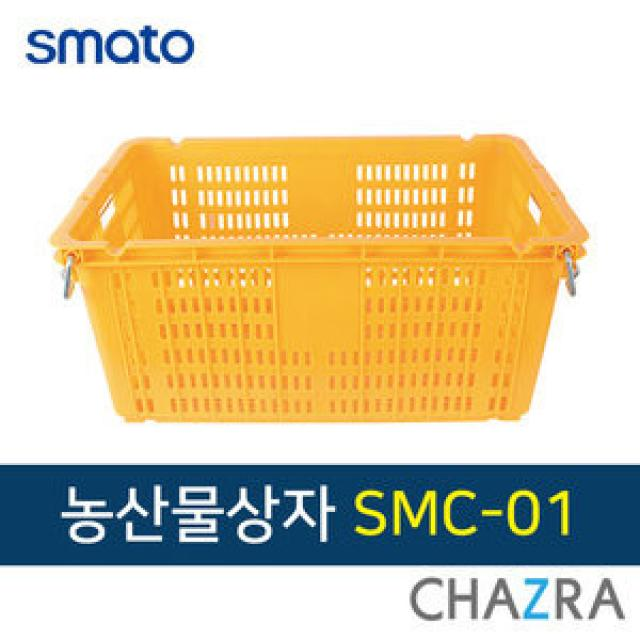basket: (53, 136, 587, 423)
